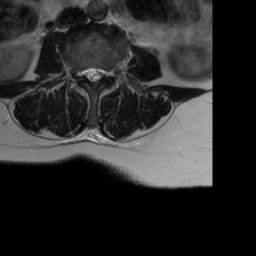CCS_normal: (89, 60, 97, 94)
LFS_normal: (106, 60, 113, 84)
LLS_stenosis: (97, 60, 105, 85)
RFS_normal: (73, 60, 81, 84)
RLS_normal: (81, 61, 89, 84)
